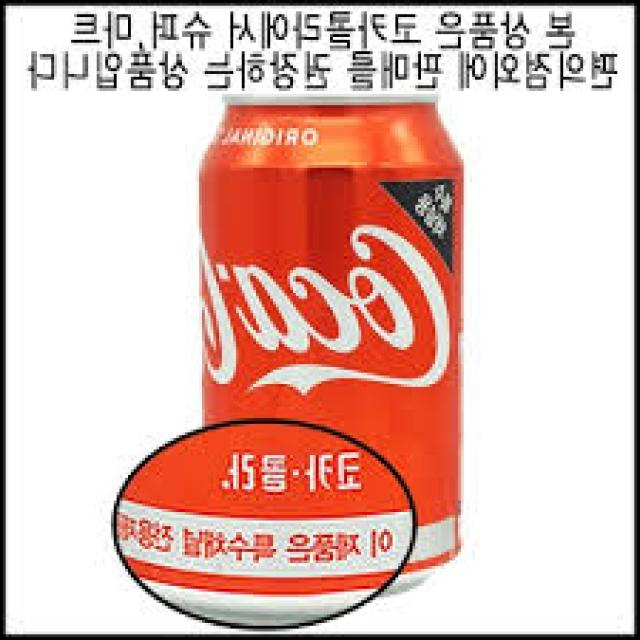Coca-Cola: (187, 87, 474, 618)
